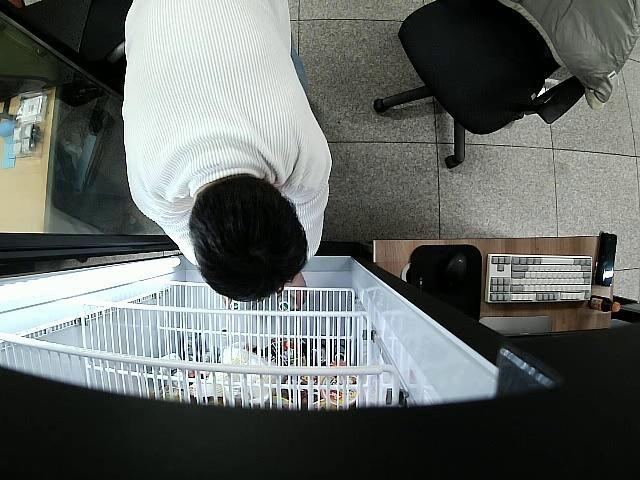18_trevi: (278, 294, 296, 312)
